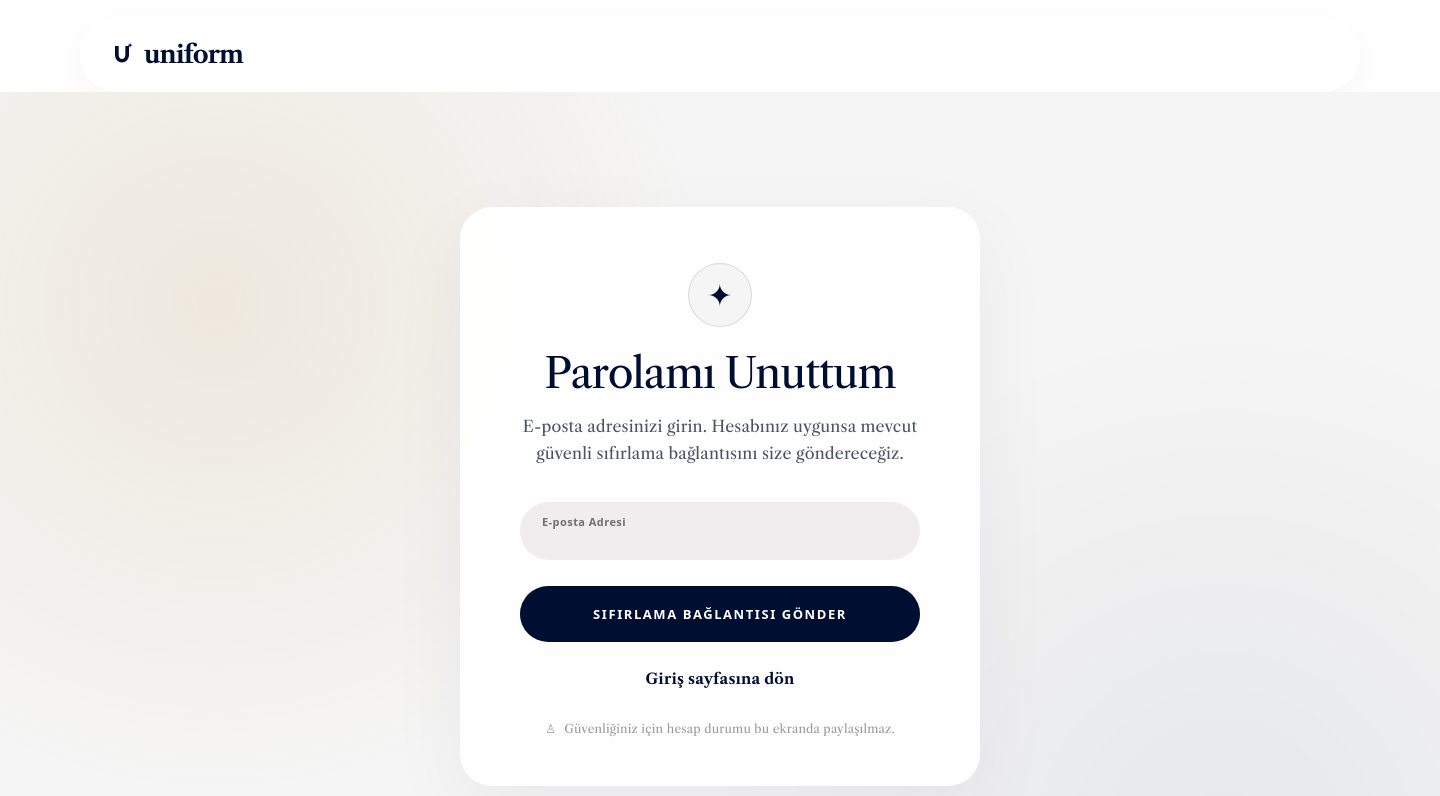
Test: password recovery and security pages › forgot password displays the generic confirmation
Type "user@example.com" into the field labelled "E-posta Adresi" at [720, 531], box [520,502,920,560]
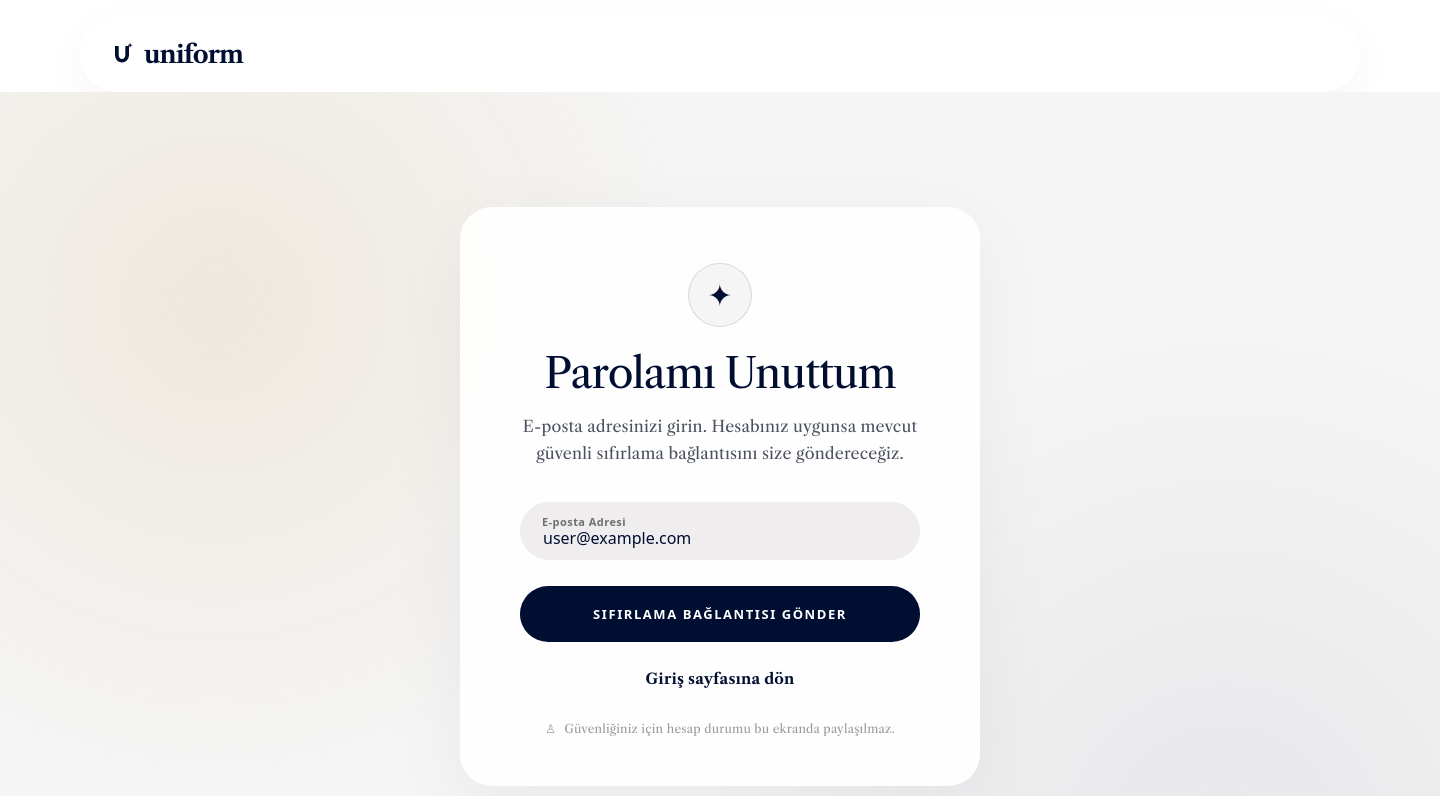
Click the button "Sıfırlama Bağlantısı Gönder" at [720, 614], box [520,586,920,642]
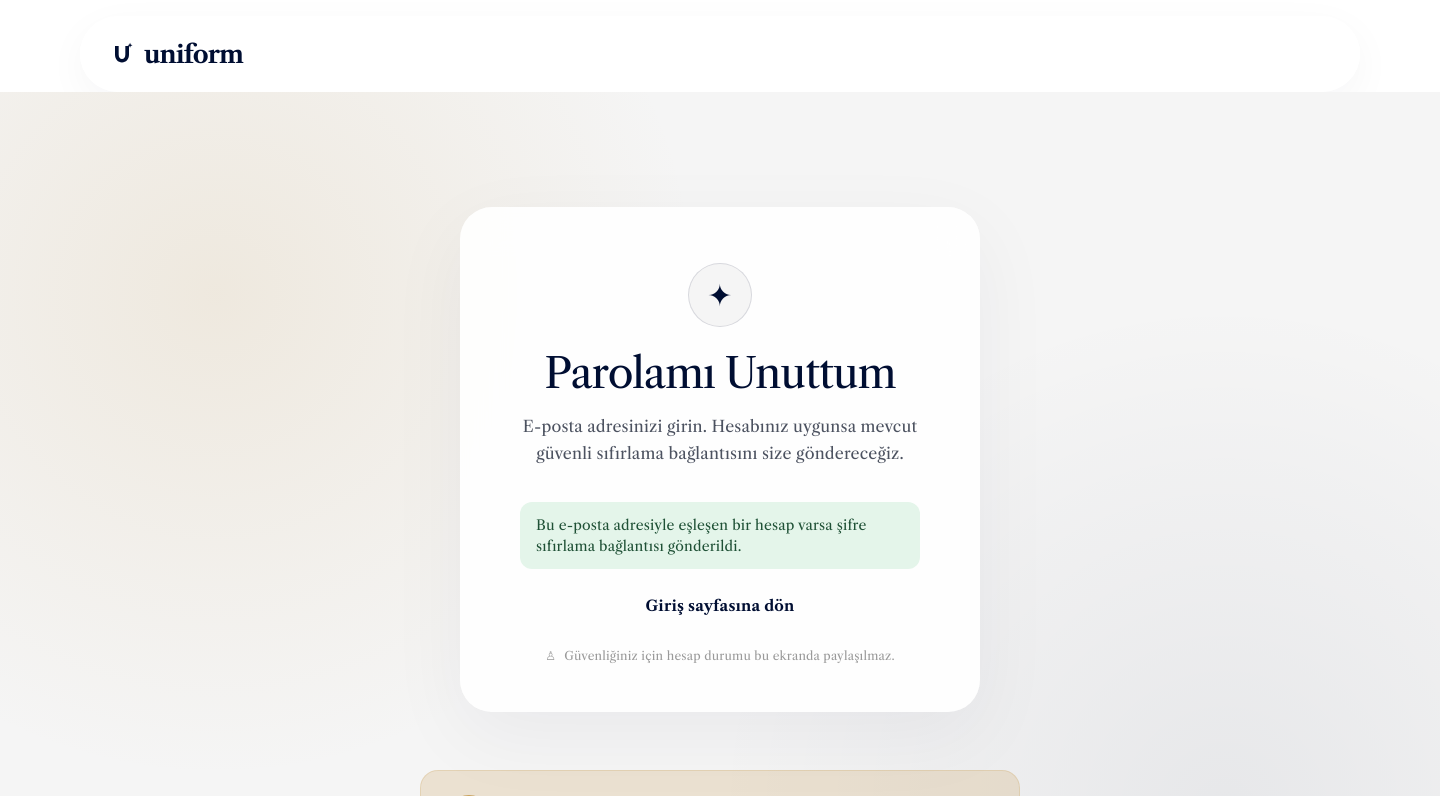
Expected: the message shows "bir hesap varsa", [536,516,866,555]
